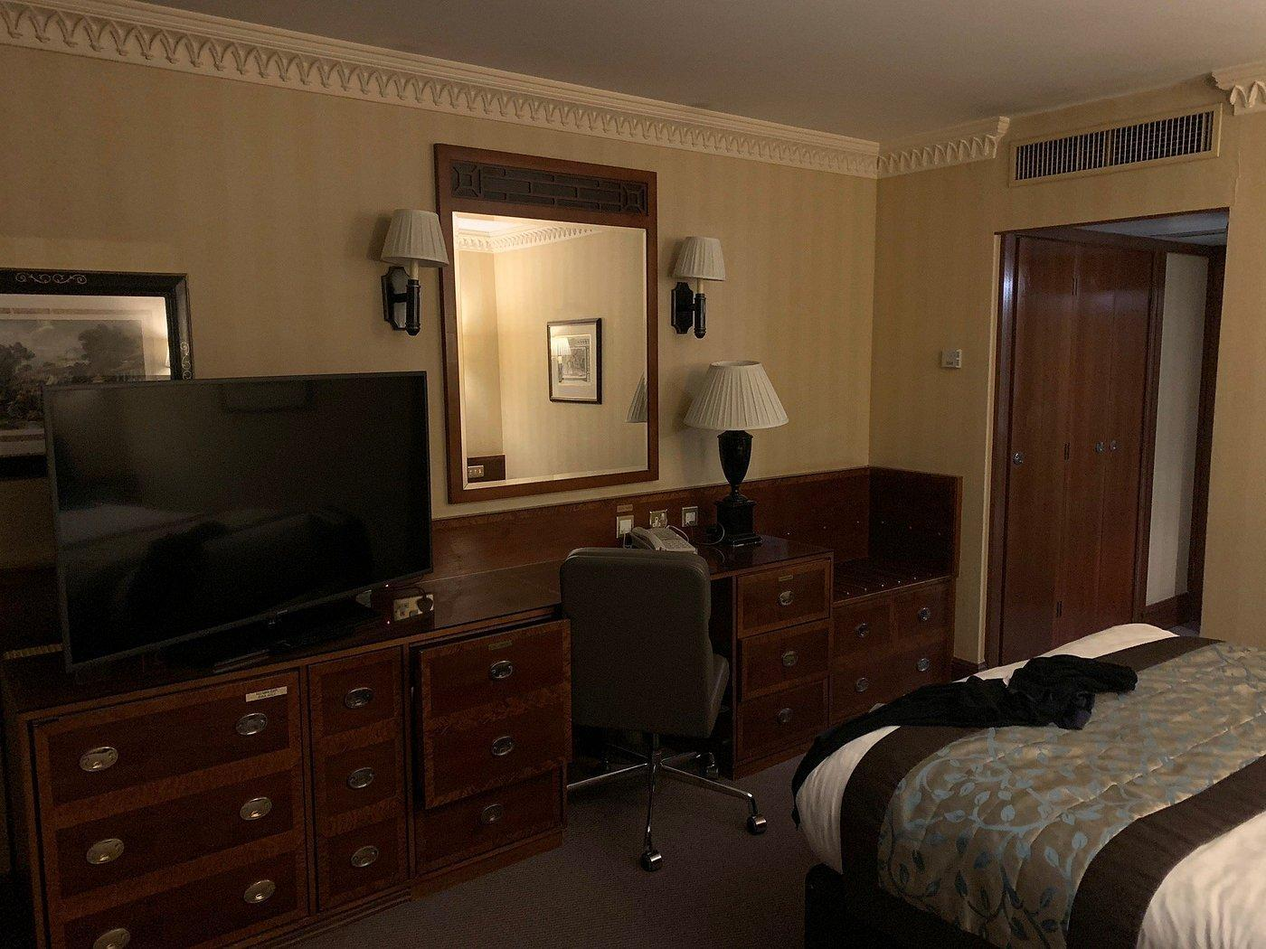chair: (564, 544, 773, 872)
lamp: (696, 365, 790, 548), (384, 212, 463, 351), (665, 240, 734, 348)
messy_bed: (779, 618, 1265, 946)
organized table: (11, 372, 968, 948)
